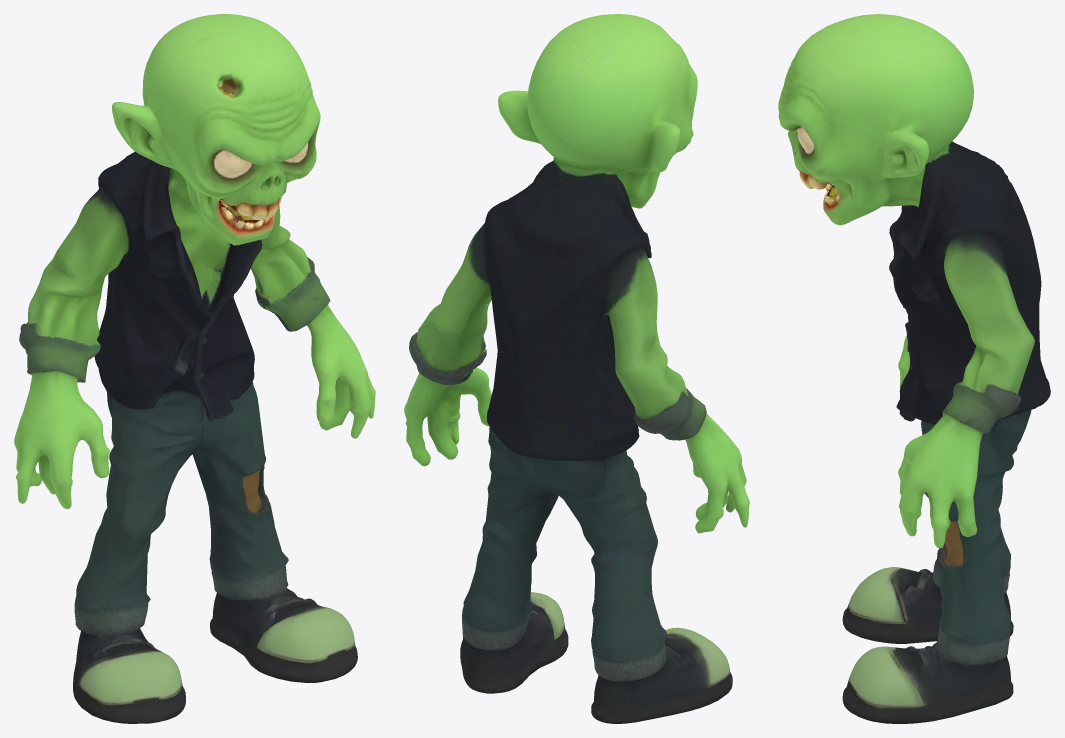
The model's file is zombie_fast.glb.
The picture shows the model from 3 angles, left to right: view 1: azimuth 30°, elevation 25°; view 2: azimuth 150°, elevation 25°; view 3: azimuth 270°, elevation 25°; orthographic projection. The views are drawn at different scales.
Size of the model in its own units: 1.08 by 1.91 by 0.7376.
Materials: 1 (1 with a texture image).
